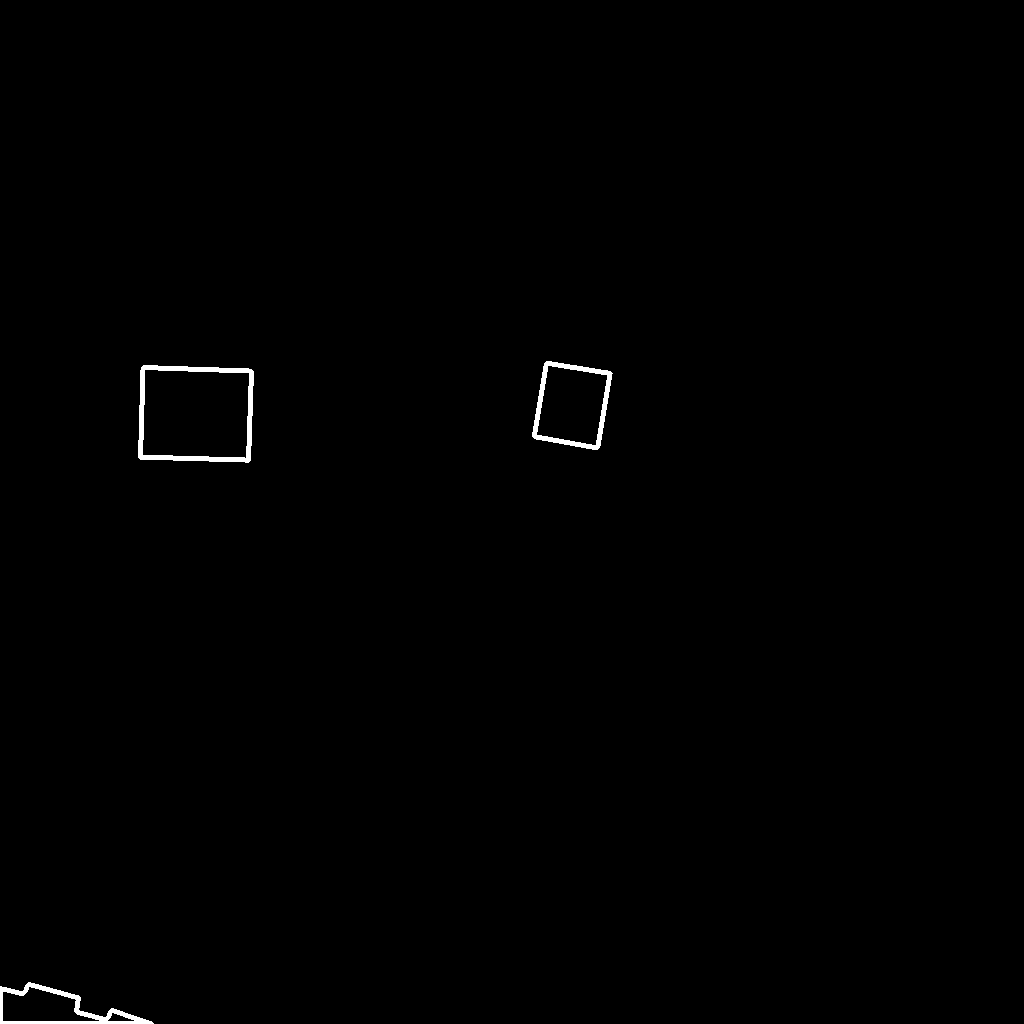building: (140, 367, 253, 461), (534, 363, 611, 449), (0, 984, 153, 1024)
